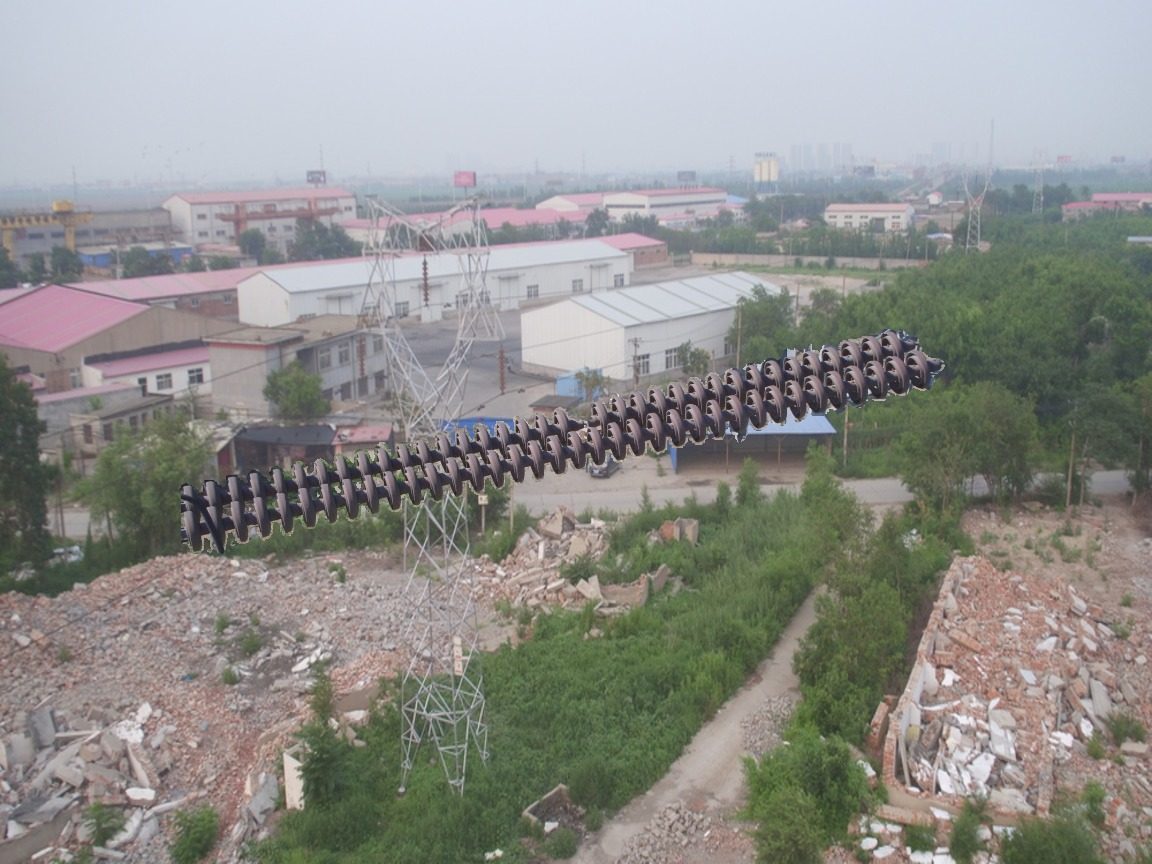defect: (548, 398, 612, 435)
